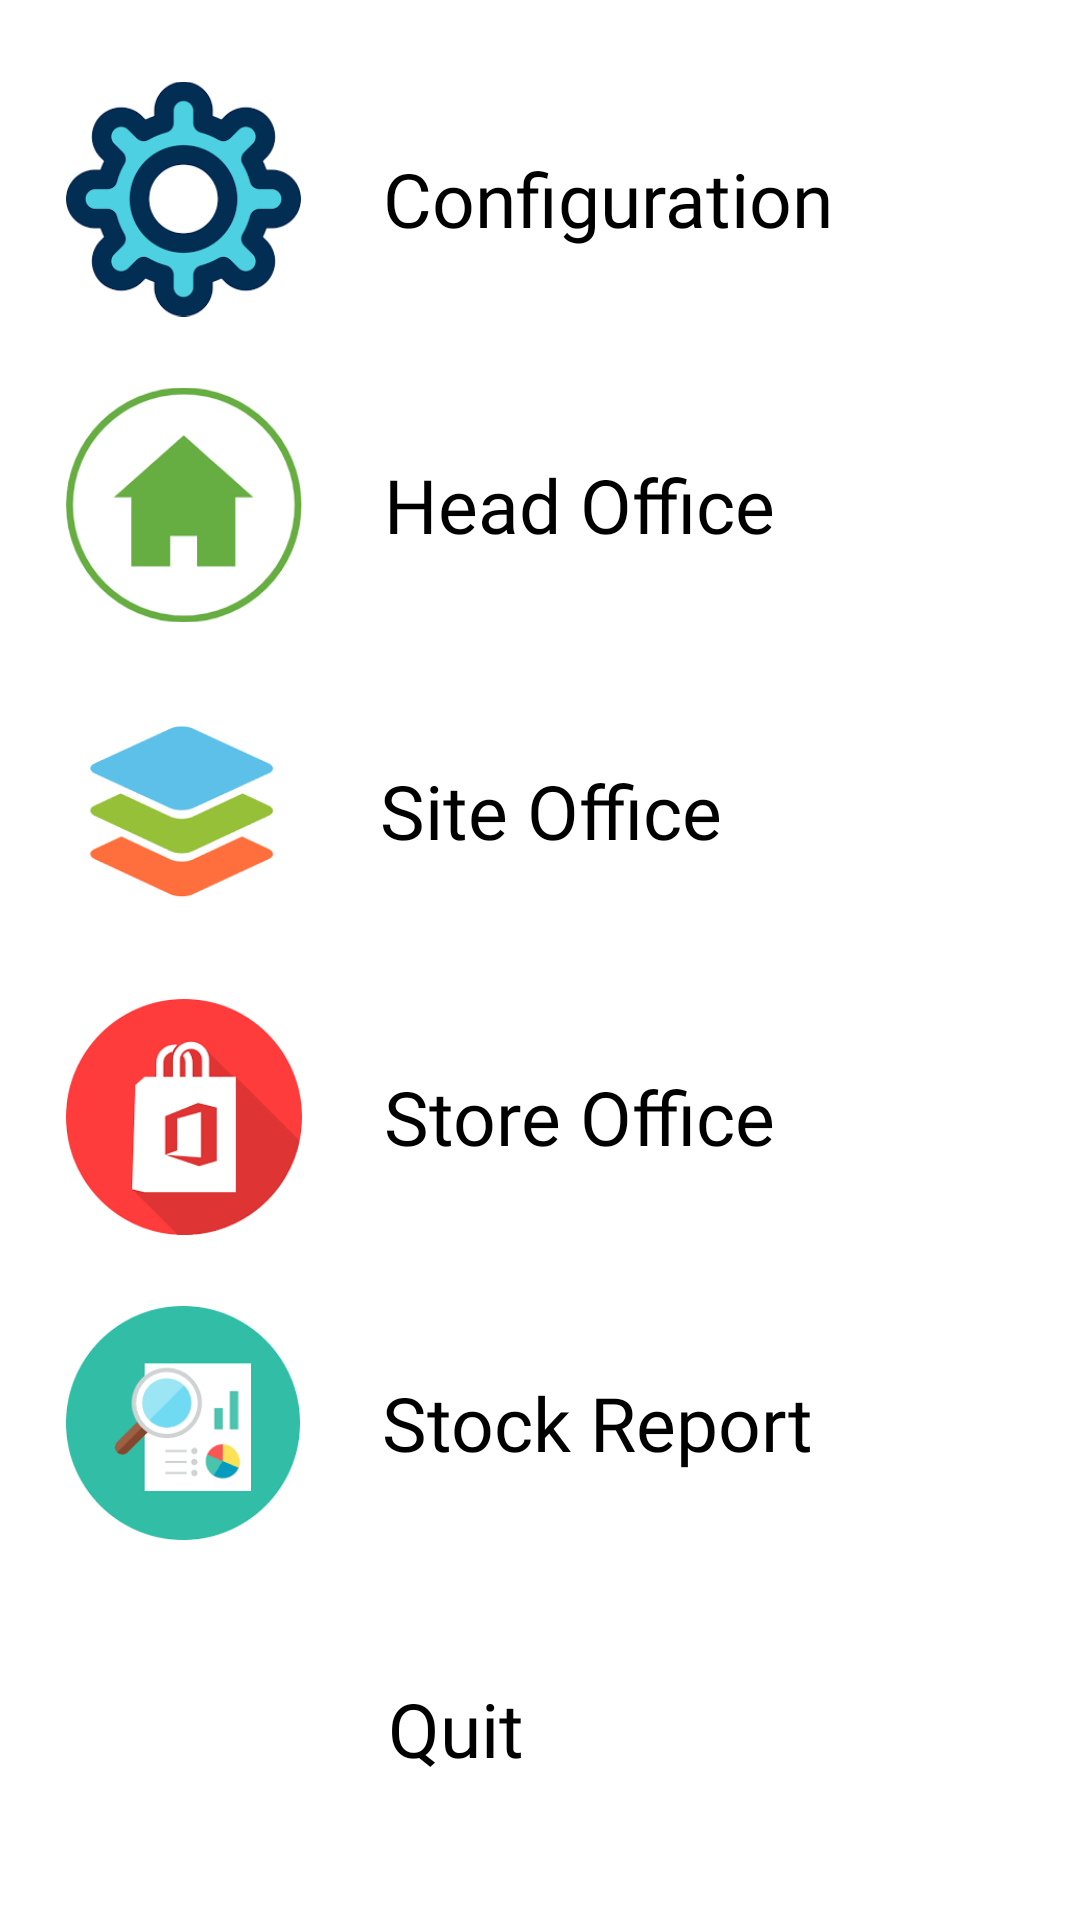

Icons on this 1080px×1920px Android screen, each with the point to tap as [x,y]:
hoimages: [184,505]
reportimage: [183,1423]
